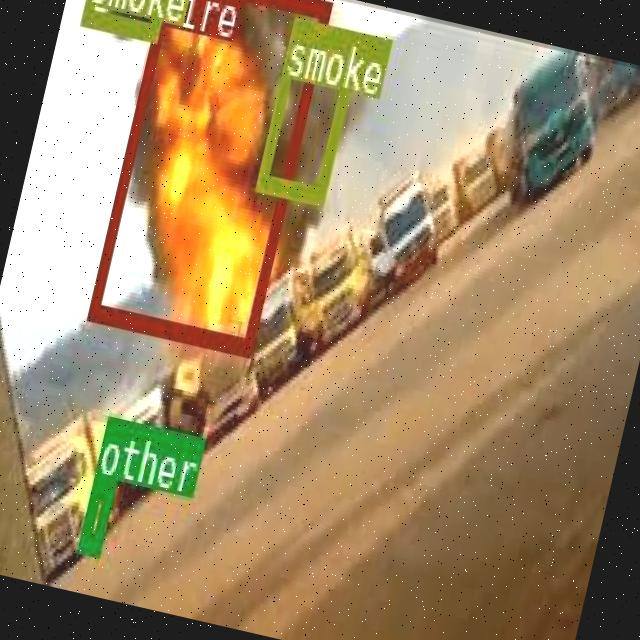fire: (85, 0, 331, 354)
smoke: (254, 15, 360, 199), (78, 0, 172, 39)
